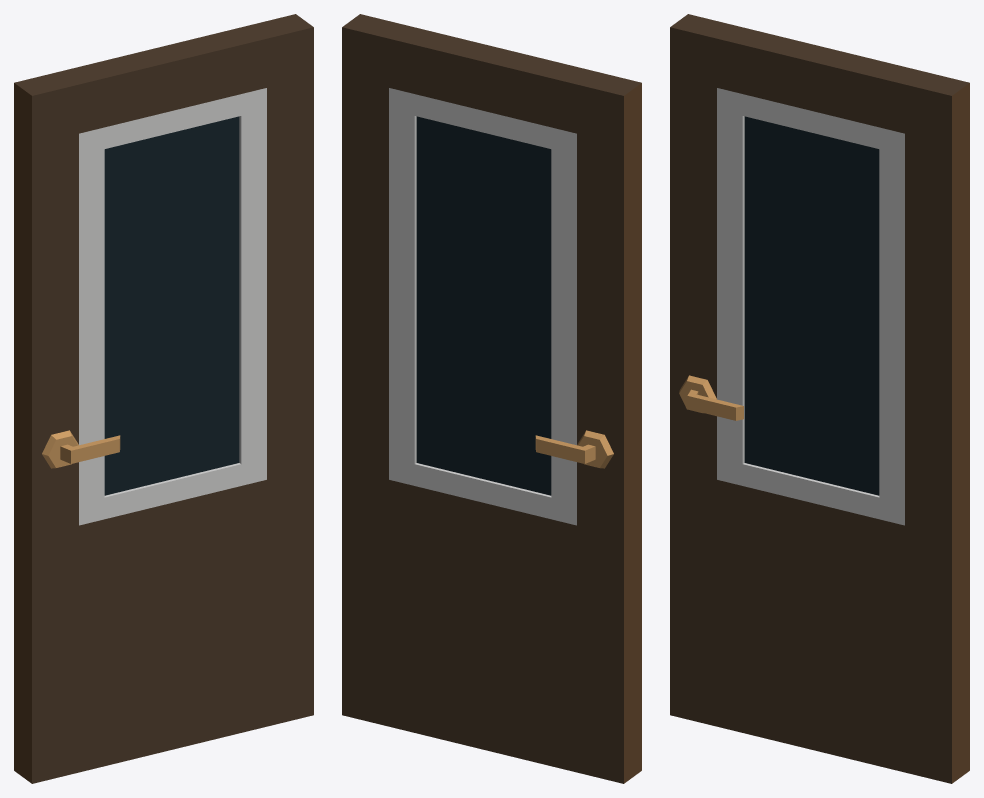
File: door-house-window.glb
The picture shows the model from 3 angles, left to right: view 1: azimuth 30°, elevation 25°; view 2: azimuth 150°, elevation 25°; view 3: azimuth 330°, elevation 25°; orthographic projection.
Parts seen in each view (by area): view 1: door-house-window; view 2: door-house-window; view 3: door-house-window.
Boxes of the visible parts, box(x1,y1,x2,y2) form: door-house-window: box(14, 14, 313, 783); door-house-window: box(342, 14, 641, 783); door-house-window: box(670, 14, 969, 783).
Bounding box in the file's own units: 0.9 × 2.1 × 0.22.
1 material, 1 textured.
